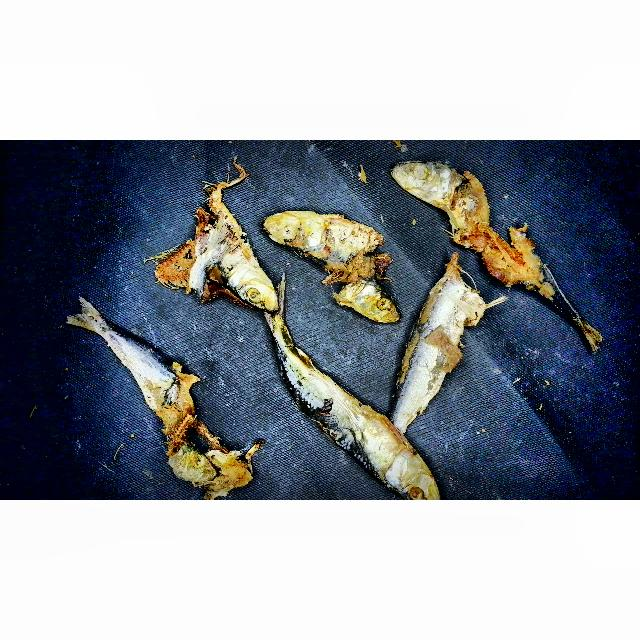Rejected_Head: (151, 179, 286, 311), (255, 201, 387, 282), (317, 269, 404, 330)
Rejected_Tail: (54, 279, 116, 348)
